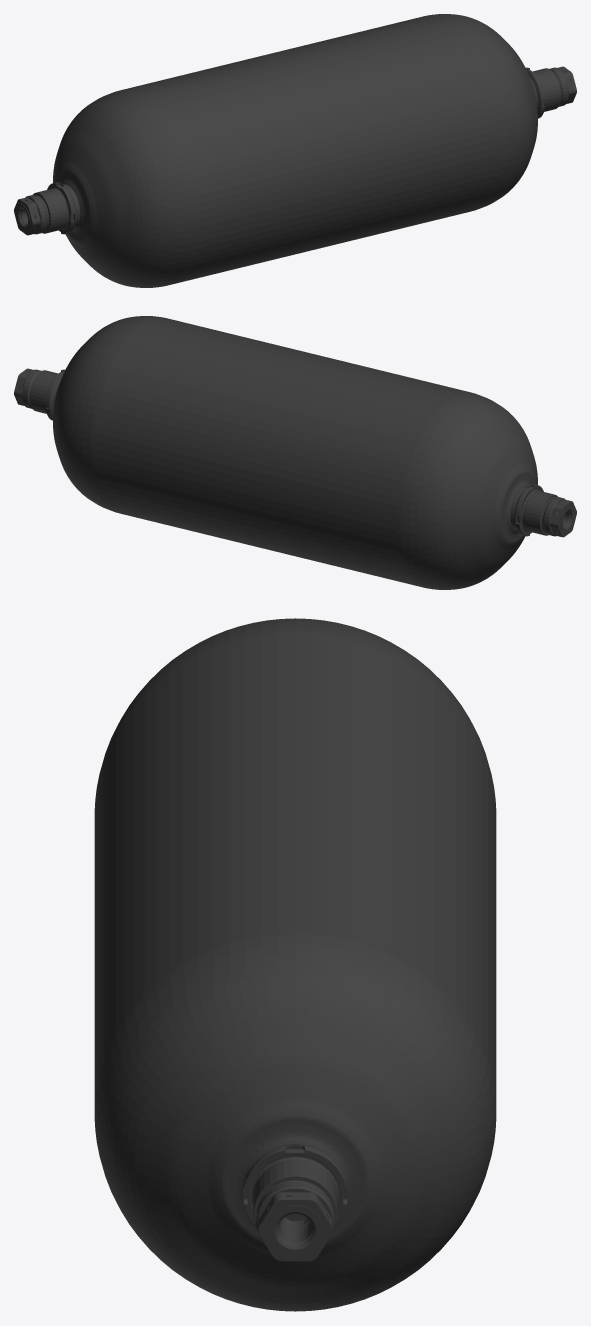
File: copv-15l.glb
The picture shows the model from 3 angles, top to bottom: view 1: azimuth 30°, elevation 25°; view 2: azimuth 150°, elevation 25°; view 3: azimuth 270°, elevation 25°; orthographic projection. The views are drawn at different scales.
Parts seen in each view (by area): view 1: geometry_0; view 2: geometry_0; view 3: geometry_0.
Boxes of the visible parts, <box> form: geometry_0: <box>14,14,576,287</box>; geometry_0: <box>14,316,576,589</box>; geometry_0: <box>94,618,496,1311</box>.
Size of the model in its own units: 3.26 by 1.04 by 1.04.
1 material, 1 textured.
